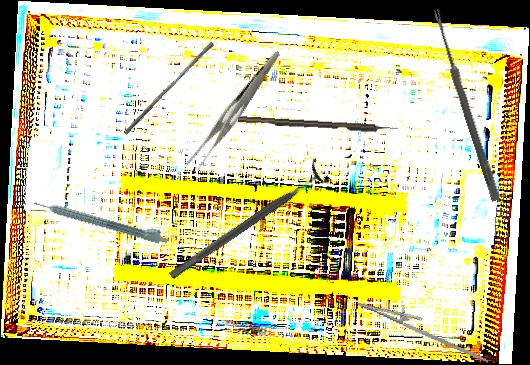Dressing Forceps: (163, 50, 308, 174)
Fixation Ring: (162, 157, 332, 288)
Handpiece: (32, 193, 171, 246)
Hook Surgical: (237, 114, 399, 135)
Needle Holder: (352, 292, 497, 363)
Pusher: (123, 38, 215, 139)
Surgical Spoon: (430, 8, 502, 202)
